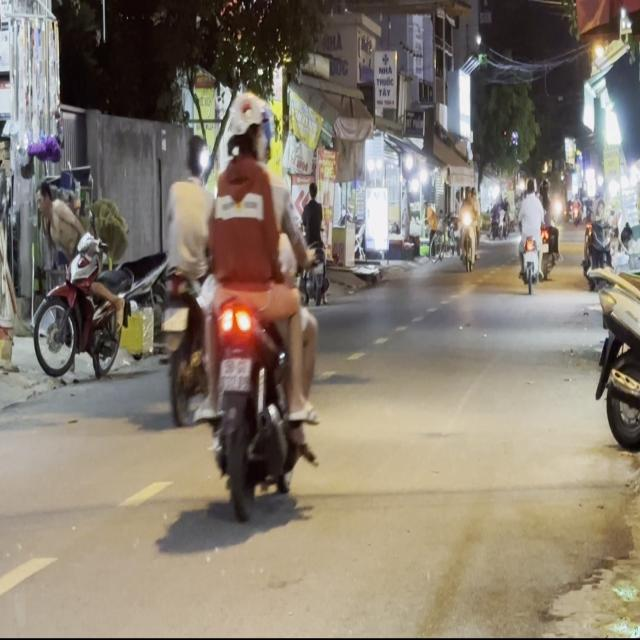helmet: (225, 90, 267, 162)
licenseplate: (201, 87, 321, 522), (156, 131, 214, 424)
motorcyclist: (182, 133, 208, 181)
nohelmet: (219, 357, 250, 390), (161, 306, 188, 330)
